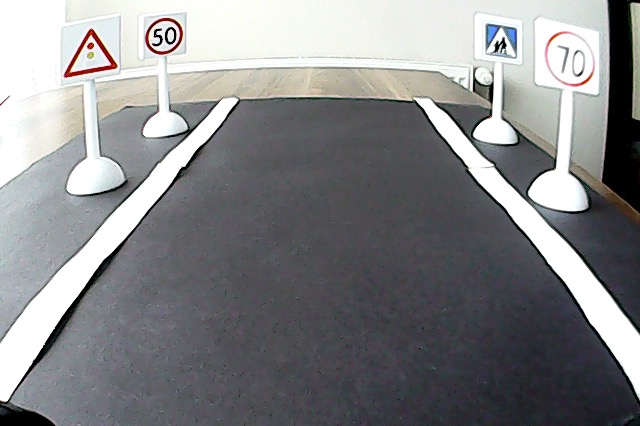red light: (63, 26, 119, 82)
school crossing: (481, 19, 523, 61)
speed limit 50: (143, 15, 184, 56)
speed limit 70: (535, 29, 596, 90)
